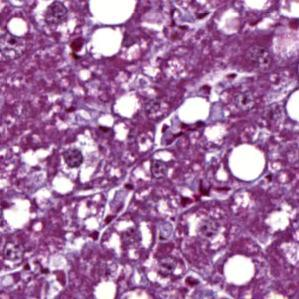steatosis: (224, 142, 272, 184), (219, 252, 258, 289)
